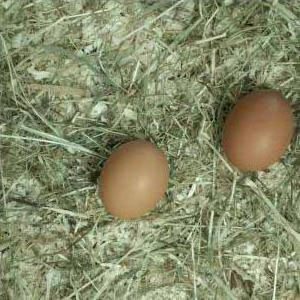egg: (223, 89, 295, 173), (98, 140, 170, 217)
